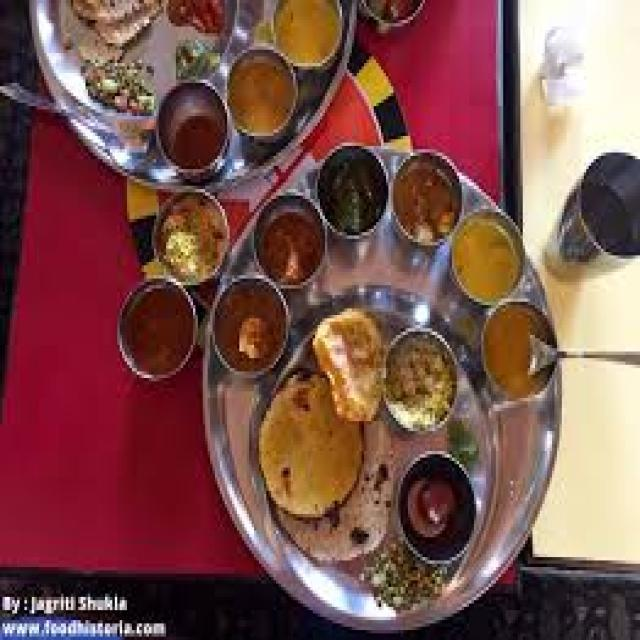dal: (209, 279, 296, 376), (445, 209, 527, 300)
roti: (248, 367, 366, 525)
sambar-rasam: (476, 293, 551, 408), (225, 47, 302, 140), (388, 154, 462, 242), (267, 3, 359, 70)
sweet: (212, 276, 296, 378), (399, 452, 478, 557)
